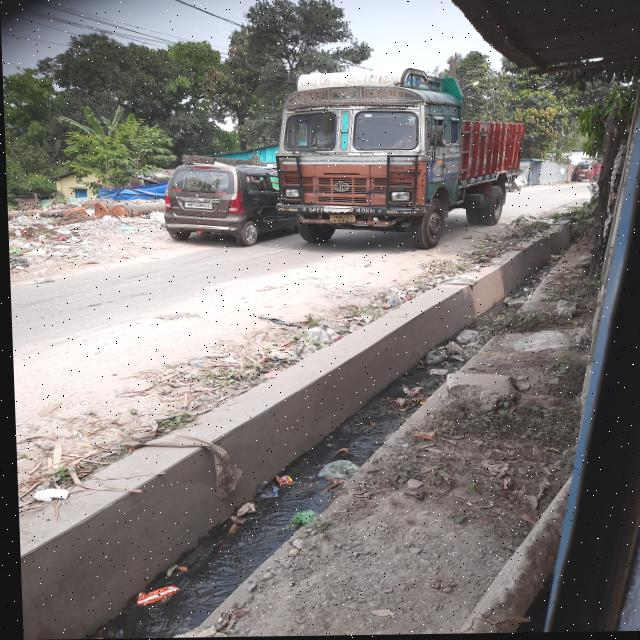plate: (182, 201, 211, 210), (328, 216, 354, 225)
